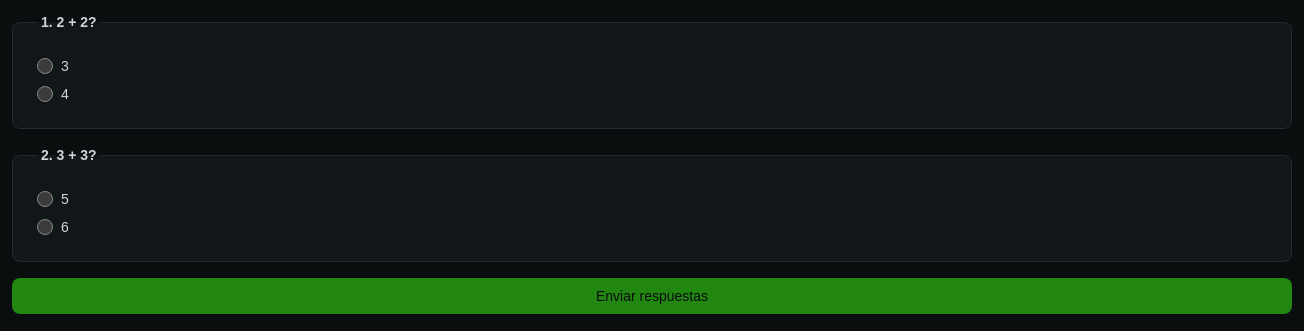
Scenario: QuizRunner › submits the JSON payload and renders QuizResult on a successful action
Step 1. Click the radio button labelled "4" → (45, 94), box [37, 86, 53, 102]
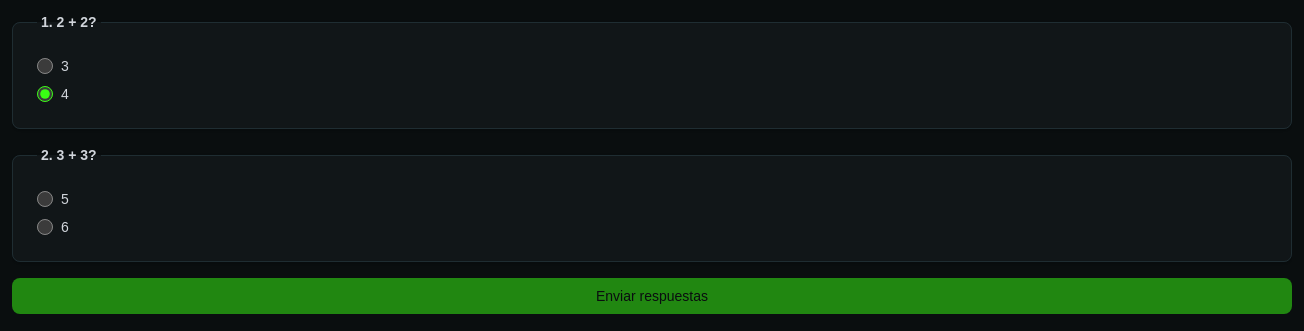
Step 2. Click the radio button labelled "6" → (45, 227), box [37, 219, 53, 235]
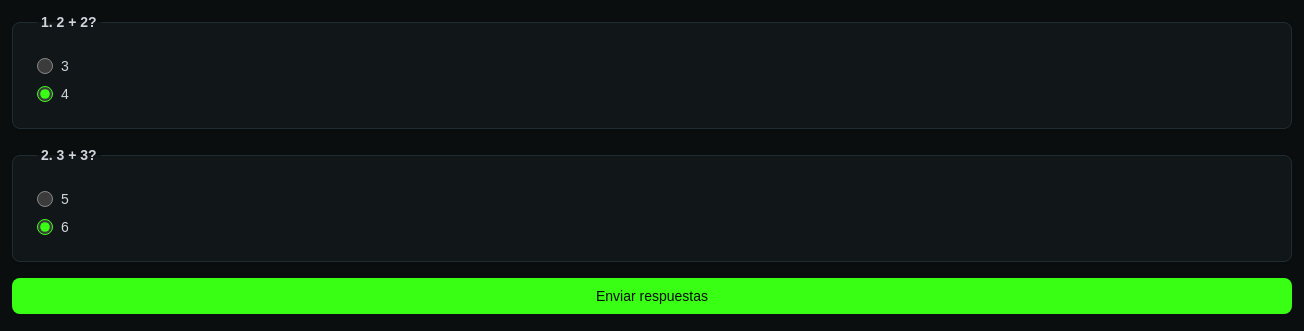
Step 3. Click the button "Enviar respuestas" → (652, 296), box [12, 278, 1292, 314]
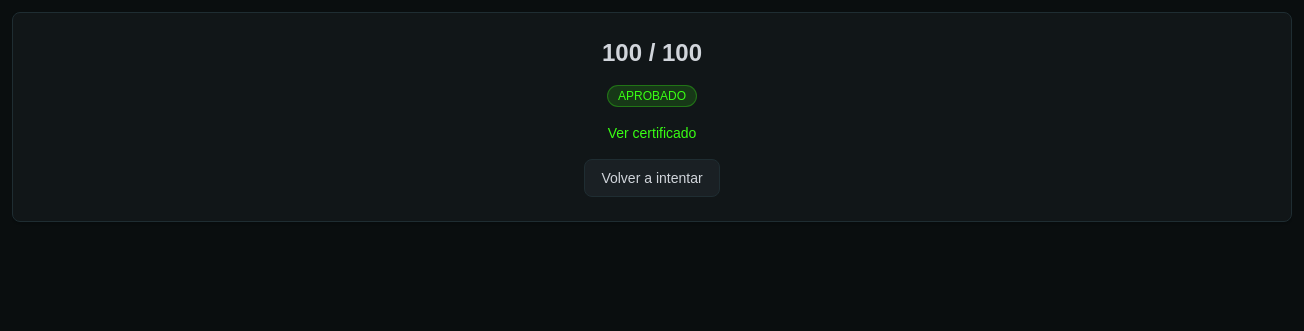
Result: the text "100 / 100" is shown at [602, 37, 702, 69]
Result: the text "APROBADO" is shown at [607, 85, 697, 107]
